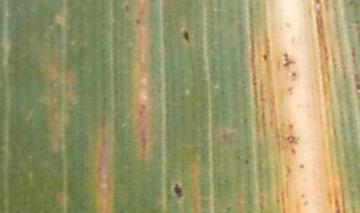tarspot: (280, 51, 296, 68), (172, 182, 183, 198), (182, 30, 191, 43), (285, 134, 295, 145), (353, 72, 360, 84), (287, 121, 294, 133), (288, 146, 297, 155), (123, 4, 130, 14), (286, 85, 293, 95), (224, 204, 232, 212), (261, 53, 268, 62), (134, 17, 141, 26), (298, 162, 305, 171), (140, 103, 147, 112), (97, 165, 104, 173), (283, 21, 290, 29), (289, 71, 297, 77), (354, 18, 360, 26), (355, 83, 360, 92), (138, 110, 144, 117), (348, 1, 355, 7), (244, 157, 248, 167), (346, 24, 352, 30), (314, 1, 321, 6), (102, 96, 107, 103)
